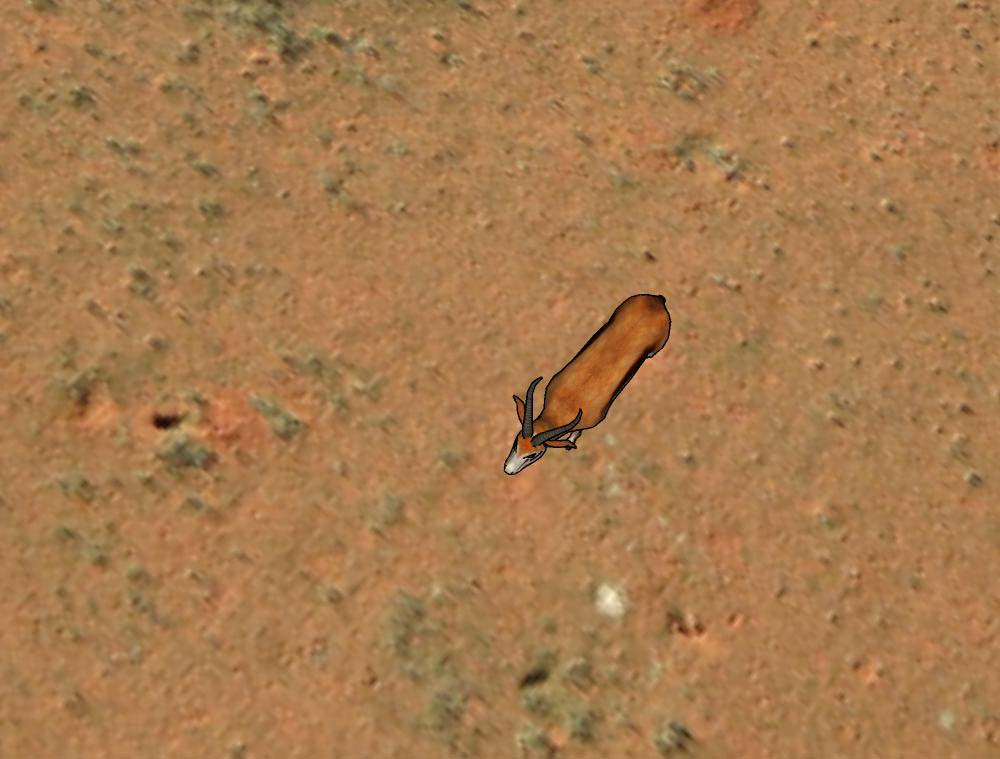springbok: (498, 280, 677, 486)
